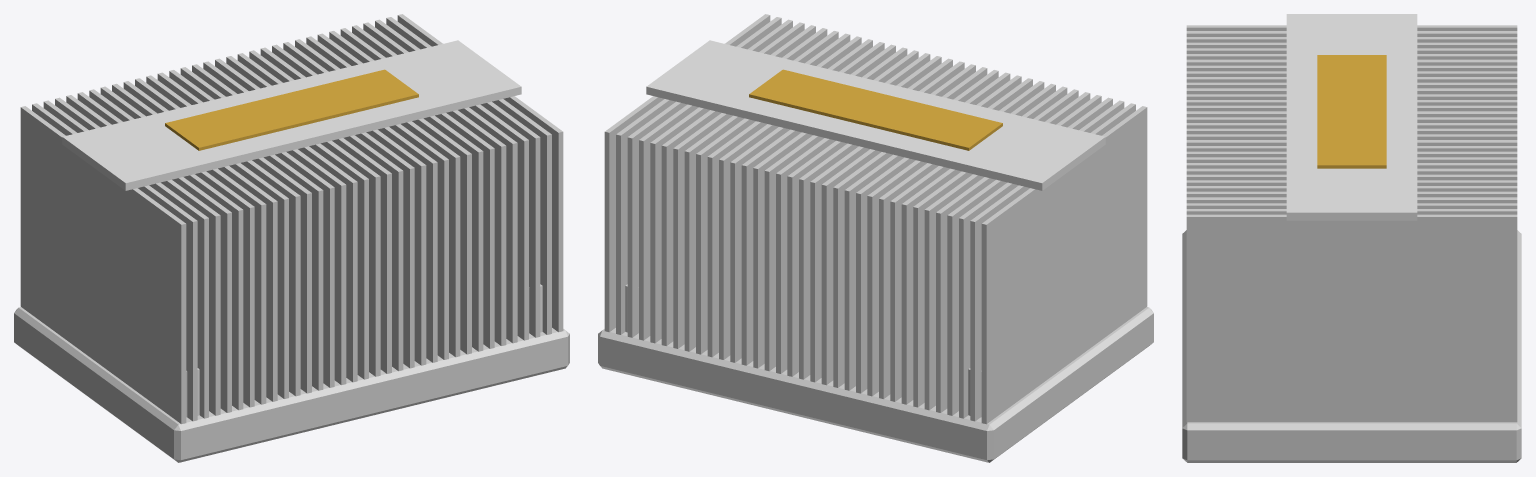
File: hw_cool_vapor_2u.glb
3 views of the same model, side by side, from view 1: azimuth 30°, elevation 25°; view 2: azimuth 150°, elevation 25°; view 3: azimuth 270°, elevation 25° (orthographic). The views are drawn at different scales.
Visible parts, largest first — view 1: Body; view 2: Body; view 3: Body.
Boxes of the visible parts, <box> form: Body: <box>14,14,569,462</box>; Body: <box>598,14,1153,462</box>; Body: <box>1182,14,1521,462</box>.
Bounding box in the file's own units: 0.108 × 0.0648 × 0.078.
